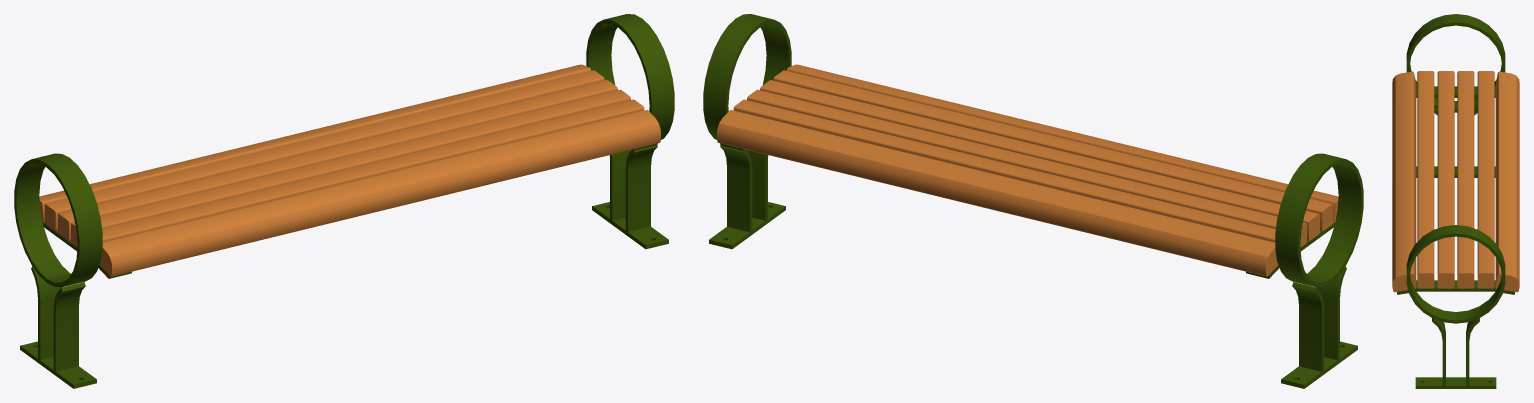
3 renders of one model, left to right at view 1: azimuth 30°, elevation 25°; view 2: azimuth 150°, elevation 25°; view 3: azimuth 270°, elevation 25°, orthographic. The views are drawn at different scales.
Visible parts, largest first — view 1: mesh17_mesh17-geometry, mesh19_mesh19-geometry, mesh4_mesh4-geometry, mesh1_mesh1-geometry, mesh2_mesh2-geometry, mesh5_mesh5-geometry; view 2: mesh17_mesh17-geometry, mesh19_mesh19-geometry, mesh4_mesh4-geometry, mesh2_mesh2-geometry, mesh1_mesh1-geometry, mesh5_mesh5-geometry; view 3: mesh17_mesh17-geometry, mesh19_mesh19-geometry, mesh4_mesh4-geometry, mesh5_mesh5-geometry, mesh3_mesh3-geometry, mesh1_mesh1-geometry, mesh2_mesh2-geometry.
Part boxes in pixels (x1,y1,x2,y2): mesh17_mesh17-geometry: [44, 70, 644, 247]; mesh19_mesh19-geometry: [39, 64, 660, 276]; mesh4_mesh4-geometry: [14, 14, 674, 287]; mesh1_mesh1-geometry: [31, 145, 657, 360]; mesh2_mesh2-geometry: [53, 149, 631, 371]; mesh5_mesh5-geometry: [20, 202, 668, 388]; mesh17_mesh17-geometry: [733, 70, 1333, 247]; mesh19_mesh19-geometry: [717, 64, 1338, 276]; mesh4_mesh4-geometry: [703, 14, 1363, 287]; mesh2_mesh2-geometry: [720, 145, 1346, 360]; mesh1_mesh1-geometry: [746, 149, 1324, 371]; mesh5_mesh5-geometry: [709, 202, 1357, 388]; mesh17_mesh17-geometry: [1417, 71, 1494, 288]; mesh19_mesh19-geometry: [1392, 71, 1519, 292]; mesh4_mesh4-geometry: [1406, 14, 1505, 323]; mesh5_mesh5-geometry: [1415, 166, 1496, 388]; mesh3_mesh3-geometry: [1397, 86, 1514, 294]; mesh1_mesh1-geometry: [1432, 108, 1477, 385]; mesh2_mesh2-geometry: [1434, 108, 1479, 385].
Size of the model in its own units: 0.9248 by 0.3055 by 0.2269.
